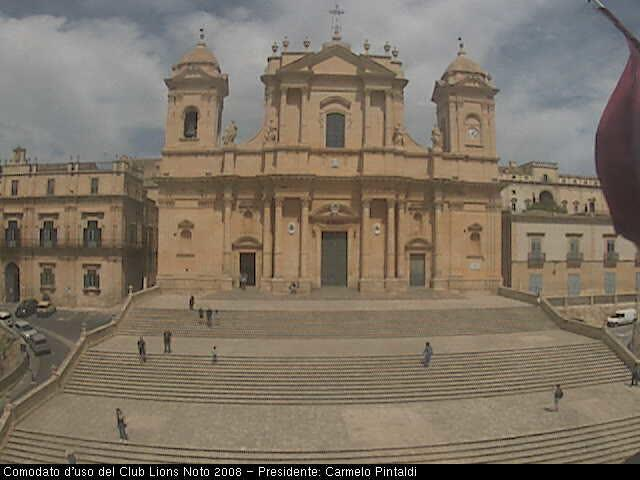person: (113, 407, 130, 444), (161, 328, 173, 355), (421, 340, 433, 367), (137, 335, 147, 365), (553, 384, 564, 411), (62, 448, 77, 464), (631, 362, 640, 386), (187, 294, 196, 313), (289, 281, 298, 299), (239, 271, 246, 293), (210, 344, 218, 362), (213, 308, 221, 325), (206, 309, 213, 328), (198, 309, 205, 322)
